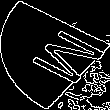M_SE: (8, 22, 102, 88)
